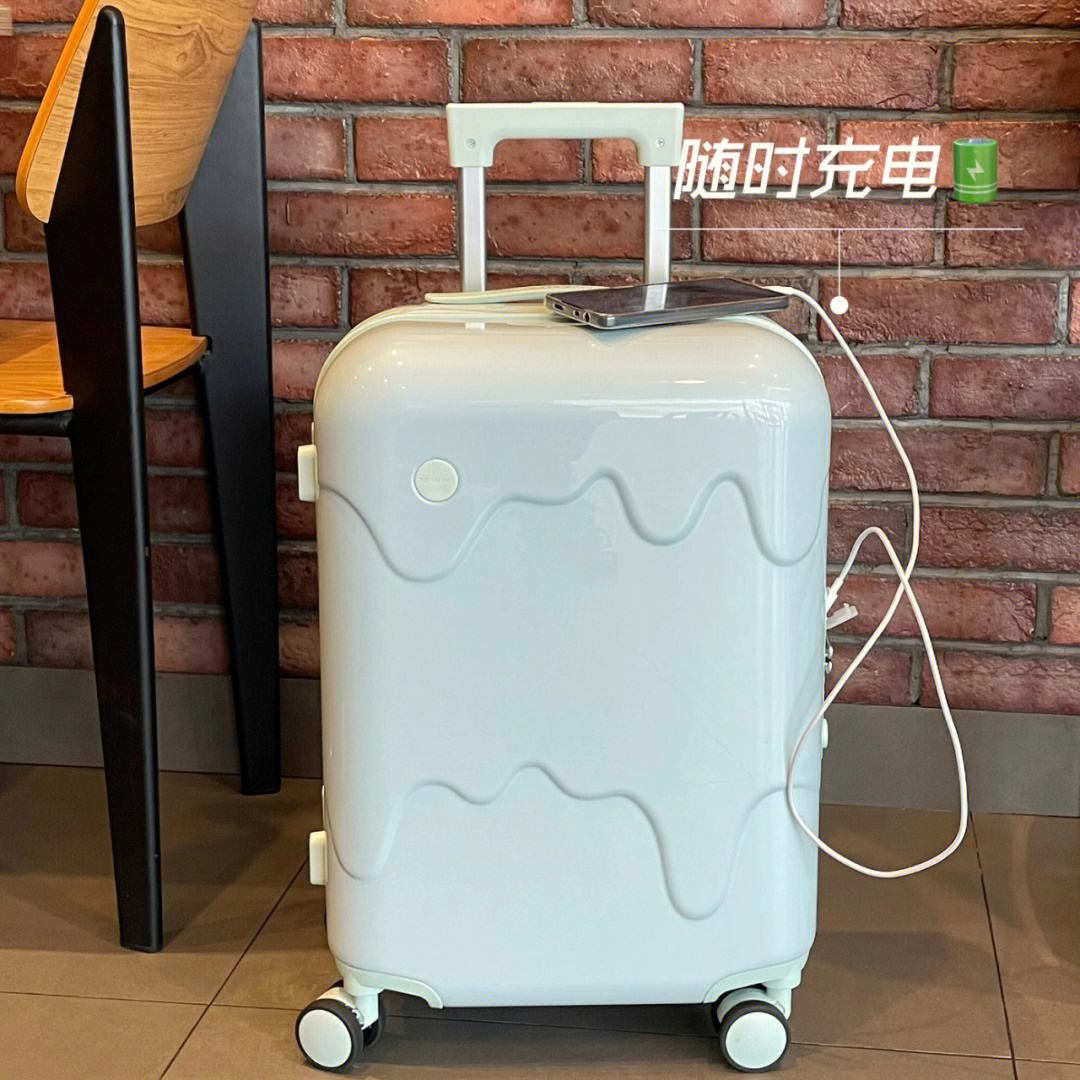box: (313, 306, 831, 1010)
handle: (424, 283, 614, 304)
wheel: (295, 979, 387, 1073), (711, 986, 792, 1073)
